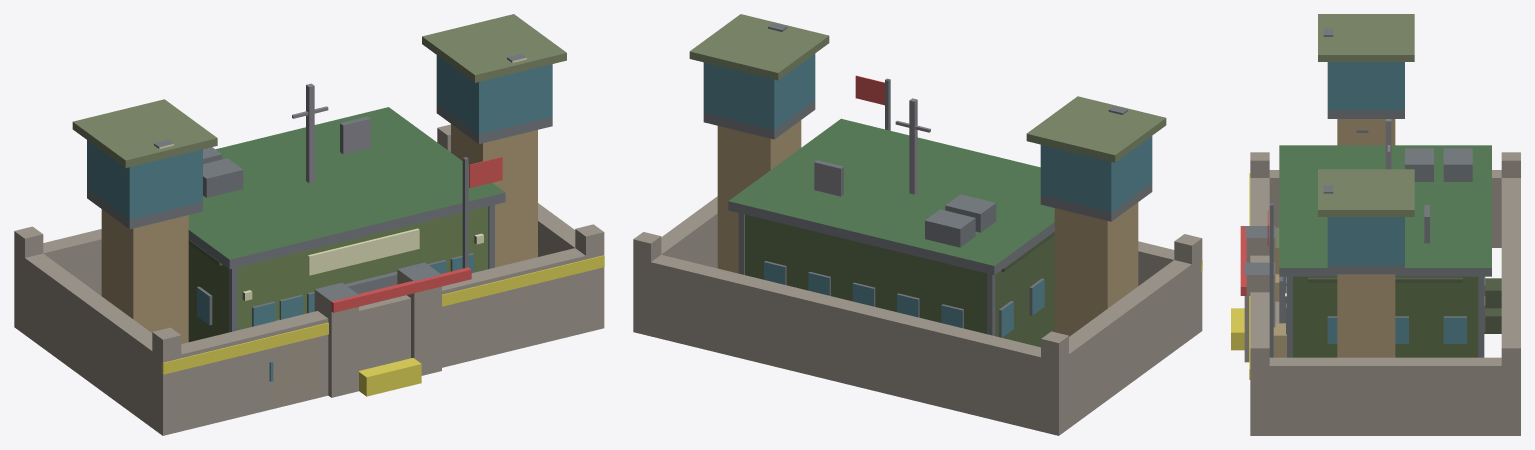
The model's file is MilitaryBase.fbx.
3 renders of one model, left to right at view 1: azimuth 30°, elevation 25°; view 2: azimuth 150°, elevation 25°; view 3: azimuth 270°, elevation 25°, orthographic. The views are drawn at different scales.
Parts seen in each view (by area): view 1: MilitaryBase; view 2: MilitaryBase; view 3: MilitaryBase.
Part boxes in pixels (box(x1,y1,x2,y2)): MilitaryBase: box(14, 14, 604, 435); MilitaryBase: box(633, 14, 1202, 435); MilitaryBase: box(1231, 14, 1520, 435).
Size of the model in its own units: 2400 by 1300 by 1500.
